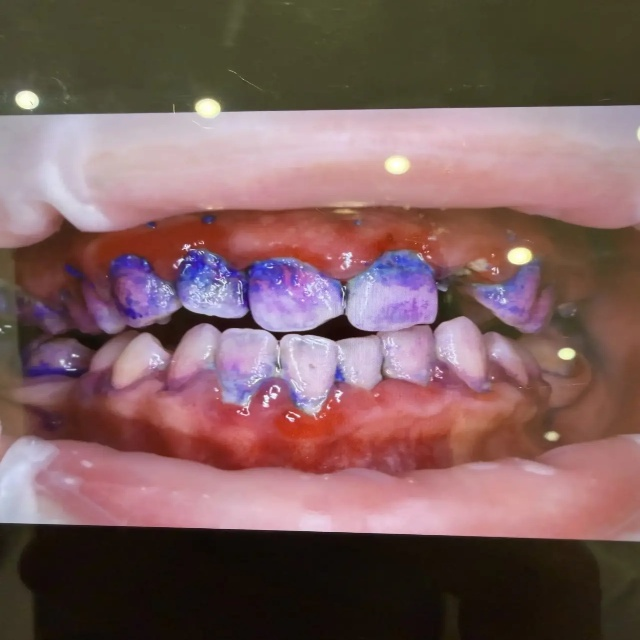plaque: (77, 249, 343, 333), (354, 250, 449, 383), (170, 354, 309, 404), (476, 263, 546, 332), (22, 342, 82, 388), (31, 302, 69, 334)
